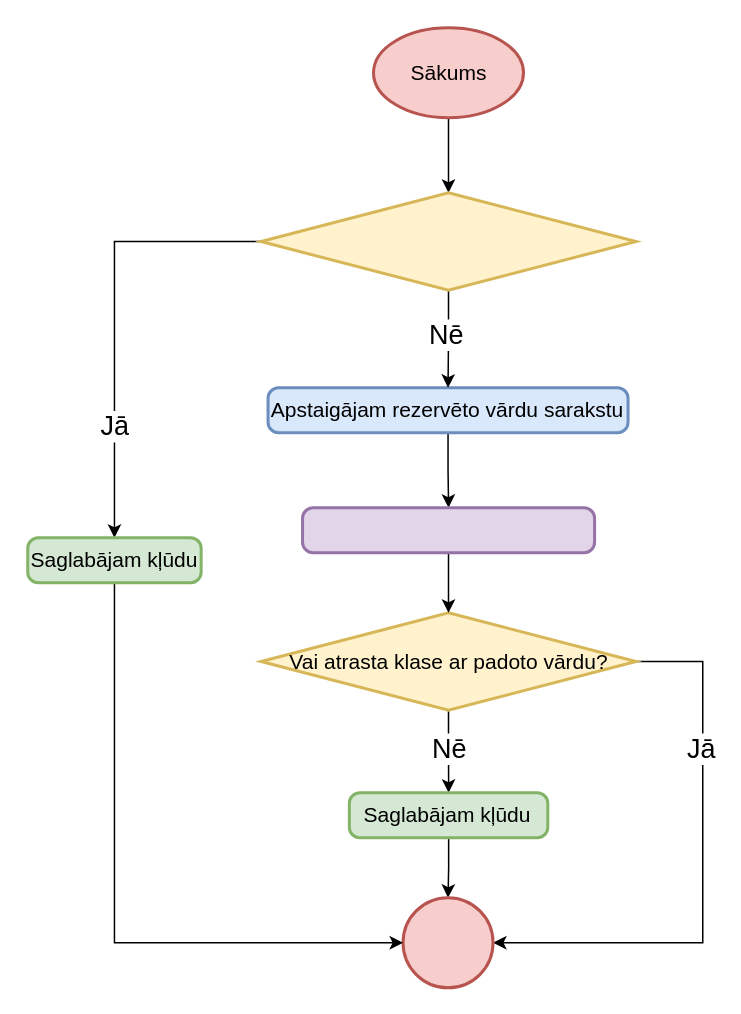
Image size: 741x1014. Some labels were removed from this diagram. The centre of each missing label's shape, as x and y in pixels:
Apstaigājam klašu sarakstu: [447,530]
Beigas: [447,942]
Vai virsklases vārds sakrīt ar bāzes klases vārdu?: [448,240]
